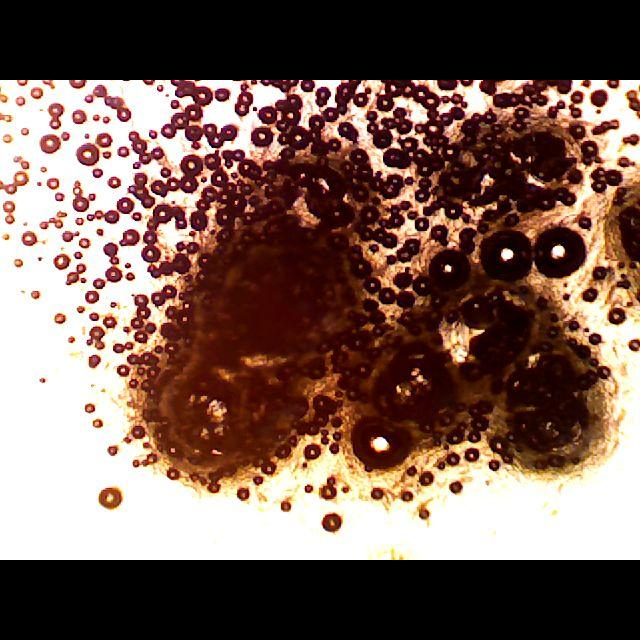Fragment: (134, 203, 370, 472)
microbeads: (348, 413, 414, 472), (479, 229, 535, 283), (532, 227, 586, 279)
